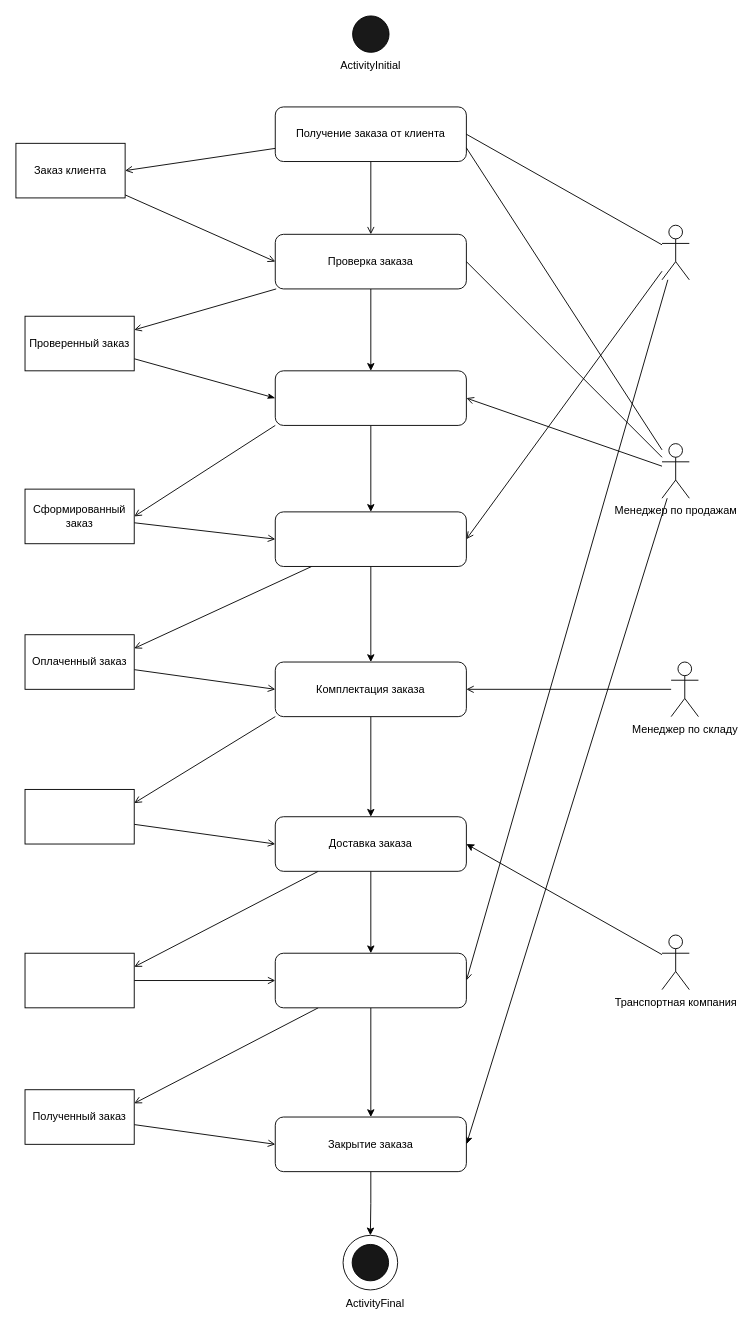
Image size: 753x1333. Some labels were removed from this diagram. The shapes that lost their labels are listed below. From the top down, each one's box as (x1, y1, x2, y2) in pixels, then its label:
(661, 224, 689, 280): Клиент
(274, 370, 466, 425): Формирование заказа
(274, 511, 466, 566): Оплата заказа
(24, 789, 134, 844): Укомплектованный заказ
(24, 952, 134, 1008): Доставленный заказ
(274, 952, 466, 1008): Получение заказа
